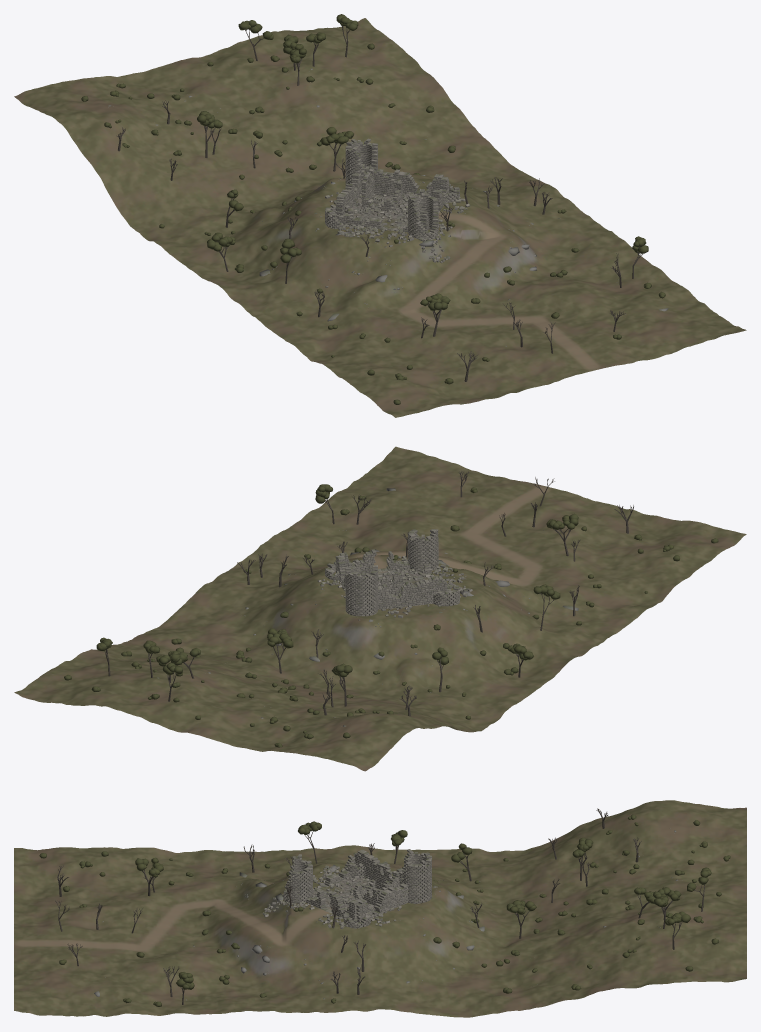
Rendered from ruins.glb.
The picture shows the model from 3 angles, top to bottom: view 1: azimuth 30°, elevation 25°; view 2: azimuth 150°, elevation 25°; view 3: azimuth 270°, elevation 25°; orthographic projection. The views are drawn at different scales.
Visible parts, largest first — view 1: Terrain, Ruins, Leaves, Trees, Rocks; view 2: Terrain, Ruins, Leaves, Trees, Rocks; view 3: Terrain, Ruins, Leaves, Trees, Rocks.
Part boxes in pixels (x1=…): Terrain: x1=14, y1=18, x2=746, y2=417; Ruins: x1=325, y1=138, x2=470, y2=263; Leaves: x1=81, y1=14, x2=665, y2=404; Trees: x1=116, y1=26, x2=642, y2=381; Rocks: x1=108, y1=68, x2=668, y2=346; Terrain: x1=14, y1=446, x2=746, y2=771; Ruins: x1=317, y1=529, x2=472, y2=618; Leaves: x1=64, y1=484, x2=718, y2=747; Trees: x1=104, y1=471, x2=633, y2=716; Rocks: x1=157, y1=488, x2=578, y2=726; Terrain: x1=14, y1=800, x2=746, y2=1017; Ruins: x1=262, y1=849, x2=431, y2=928; Leaves: x1=39, y1=814, x2=730, y2=1006; Trees: x1=55, y1=808, x2=705, y2=1004; Rocks: x1=94, y1=828, x2=682, y2=1000.
Size of the model in its own units: 84.01 by 20.61 by 158.
2 materials, 1 textured.
